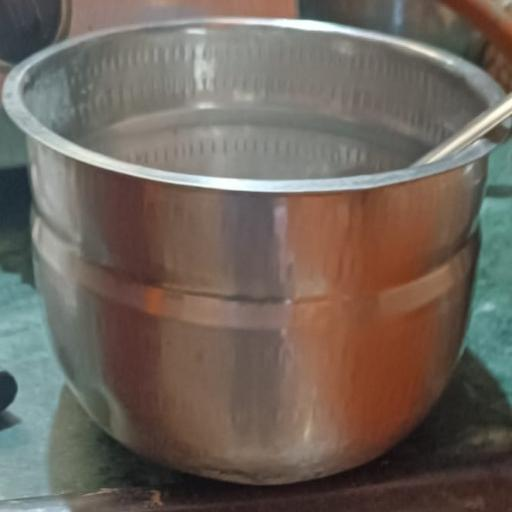vessel: (4, 18, 503, 482)
